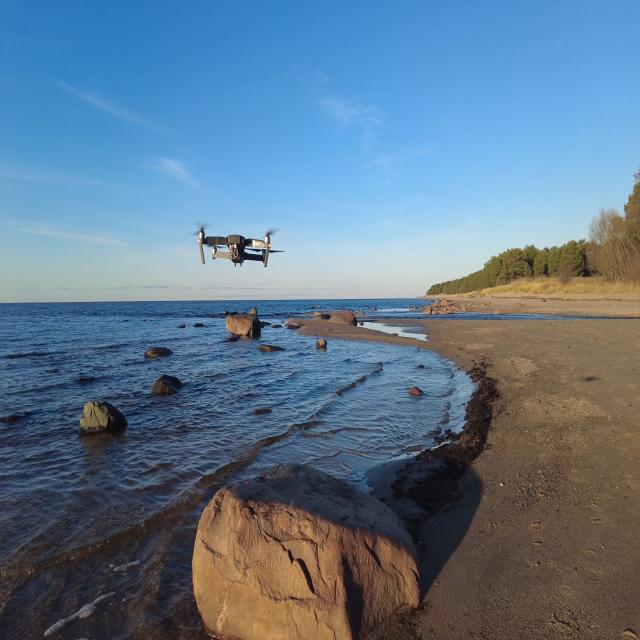Drone: (196, 229, 283, 267)
